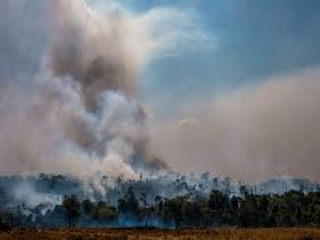smoke: (35, 11, 140, 197)
